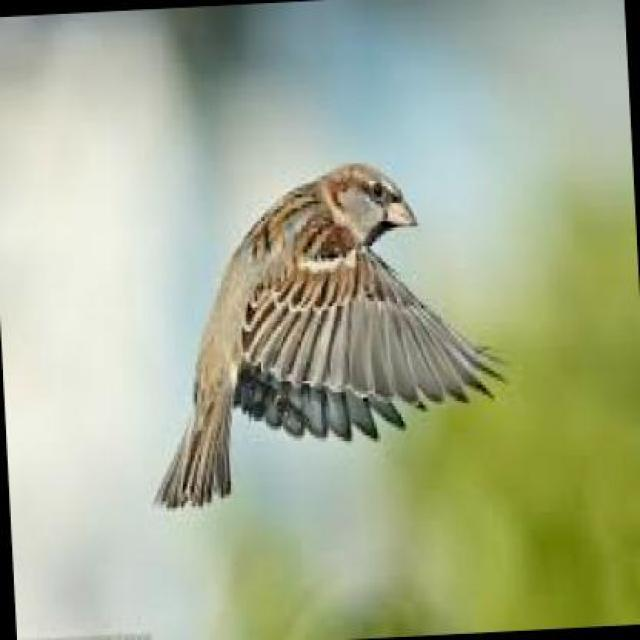Bird: (155, 143, 479, 535)
